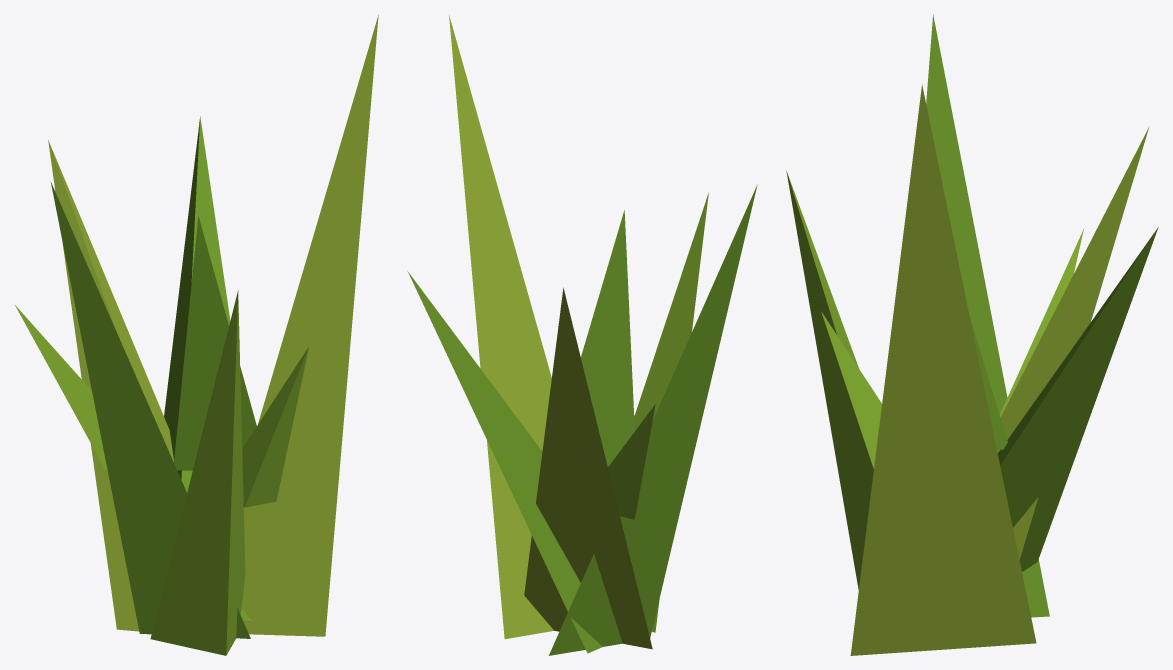
Rendered from GrassC.fbx.
The picture shows the model from 3 angles, left to right: view 1: azimuth 30°, elevation 25°; view 2: azimuth 150°, elevation 25°; view 3: azimuth 270°, elevation 25°; orthographic projection. The views are drawn at different scales.
Parts seen in each view (by area): view 1: Cone.009; view 2: Cone.009; view 3: Cone.009.
Boxes of the visible parts, bbox=[...] form: Cone.009: bbox=[15, 15, 378, 655]; Cone.009: bbox=[407, 15, 757, 655]; Cone.009: bbox=[786, 14, 1158, 655].
Bounding box in the file's own units: 43.11 × 73.62 × 40.29.
